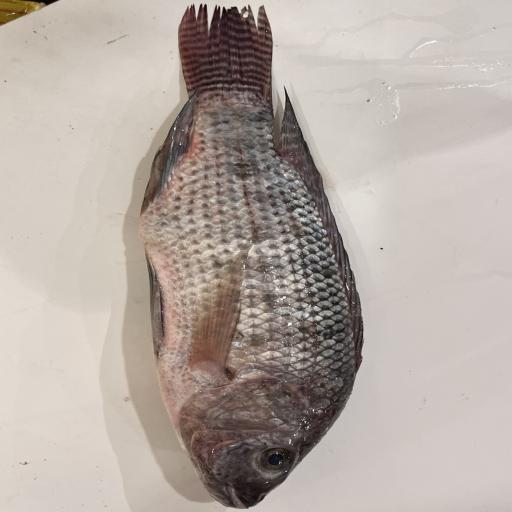Tilapia: (139, 4, 364, 509)
